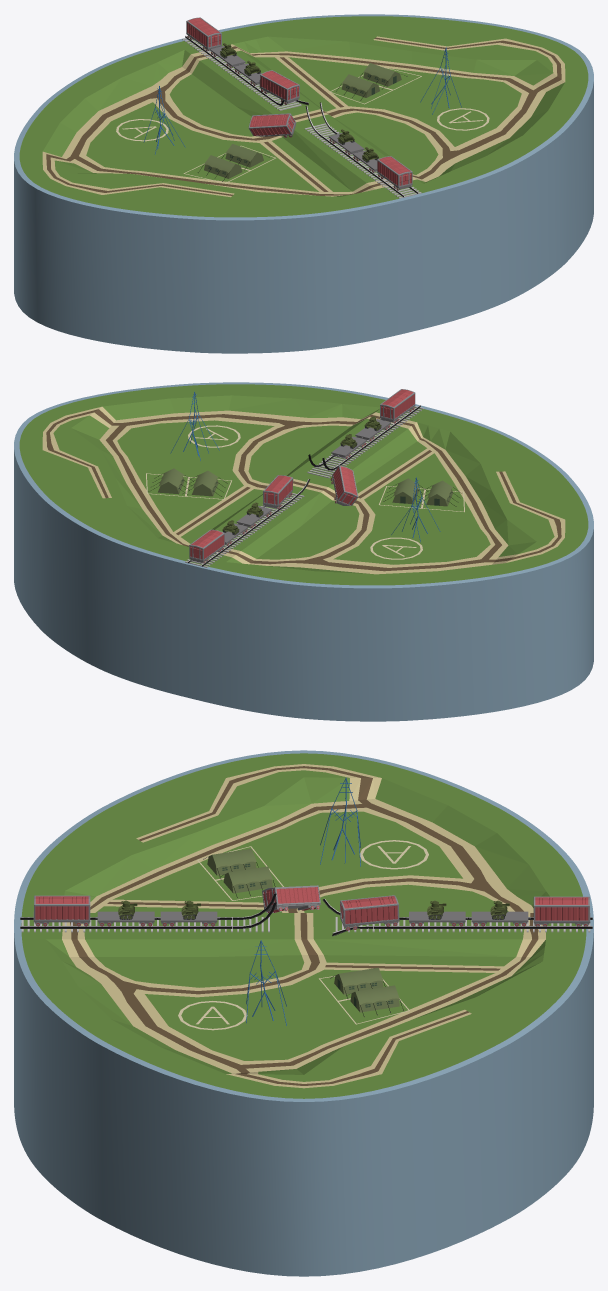
File: WTanks_v01.fbx
3 views of the same model, one above another, from view 1: azimuth 30°, elevation 25°; view 2: azimuth 150°, elevation 25°; view 3: azimuth 270°, elevation 25° (orthographic). The views are drawn at different scales.
Visible parts, largest first — view 1: Ground_Center; view 2: Ground_Center; view 3: Ground_Center.
Part boxes in pixels (left/top/right/bottom): Ground_Center: left=14, top=14, right=593, bottom=353; Ground_Center: left=14, top=382, right=593, bottom=721; Ground_Center: left=14, top=750, right=593, bottom=1276.
Size of the model in its own units: 10829 by 3465 by 7546.
1 material, 1 textured.
